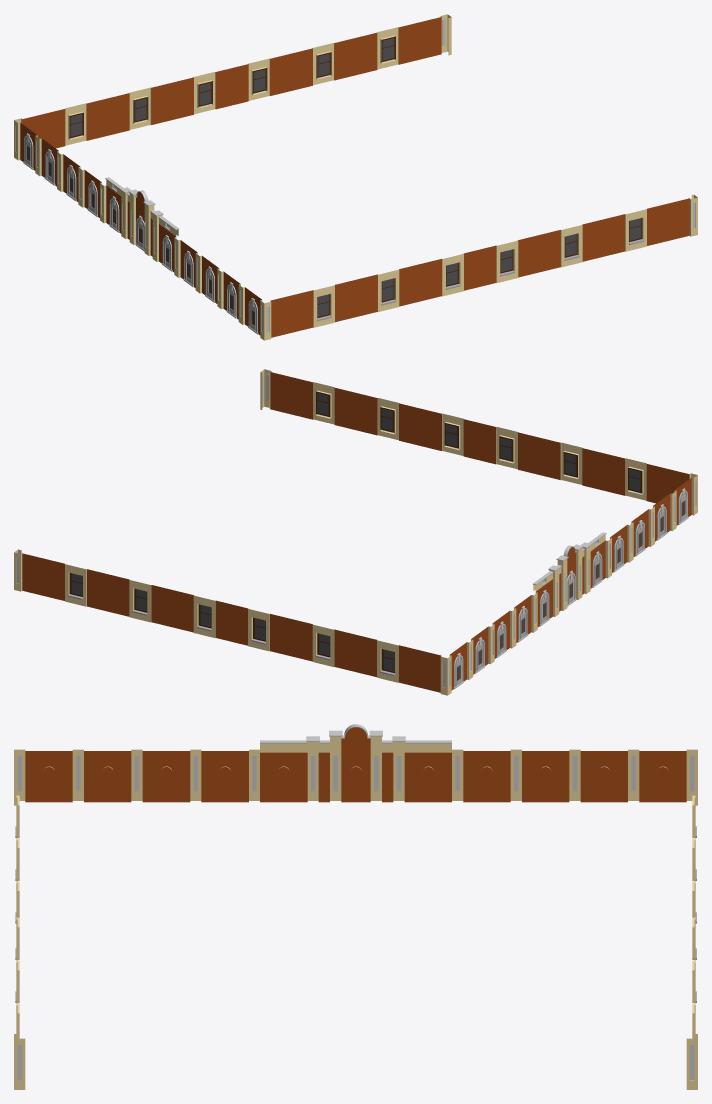
Rendered from BuildingBig3_2.fbx.
3 renders of one model, top to bottom at view 1: azimuth 30°, elevation 25°; view 2: azimuth 150°, elevation 25°; view 3: azimuth 270°, elevation 25°, orthographic. The views are drawn at different scales.
Parts seen in each view (by area): view 1: BuildingBig3_2; view 2: BuildingBig3_2; view 3: BuildingBig3_2.
Boxes of the visible parts, bbox=[...] form: BuildingBig3_2: bbox=[14, 14, 697, 340]; BuildingBig3_2: bbox=[14, 369, 697, 695]; BuildingBig3_2: bbox=[14, 724, 697, 1089].
Bounding box in the file's own units: 6071 × 760 × 6061.
